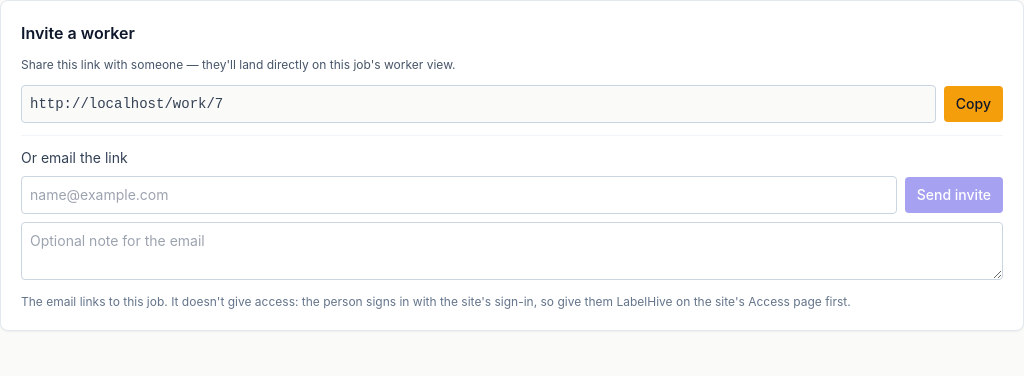
Test: InviteWorkerLink › emails an invite and shows the server error when it fails
The width and height of the screenshot is (1024, 376).
In the field named "Email address": x=459, y=195 [21,176,897,214], type "sam@example.com"
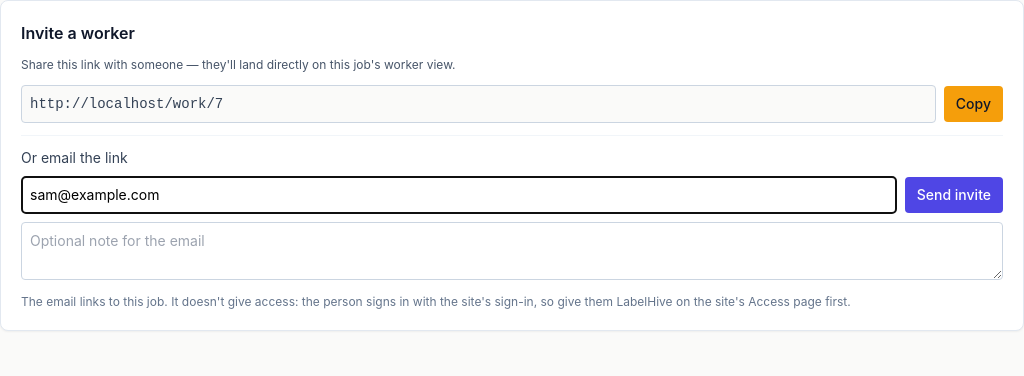
In the text box labelled "note": x=512, y=251 [21,222,1003,280], type "Thanks!"
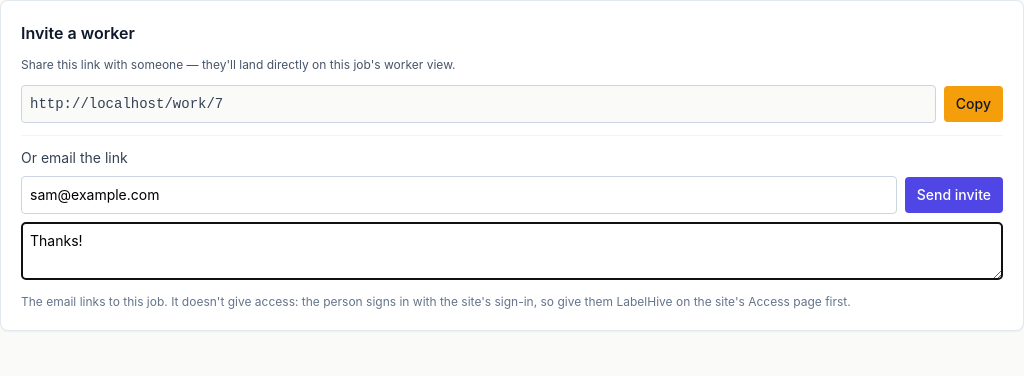
Click the button "Send invite": x=954, y=195 [905,177,1003,213]
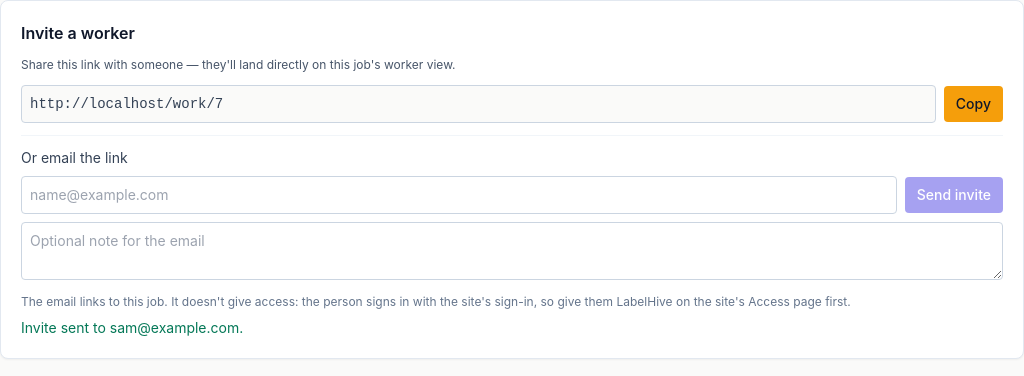
Expected: the message reads "Invite sent to sam@example.com.", [21,319,243,336]
In the field named "Email address": x=459, y=195 [21,176,897,214], type "sam@example.com"
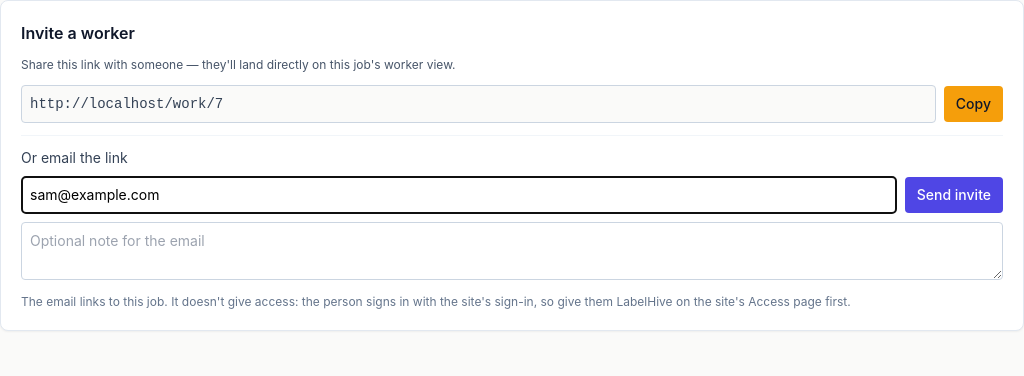
Click the button "Send invite": x=954, y=195 [905,177,1003,213]
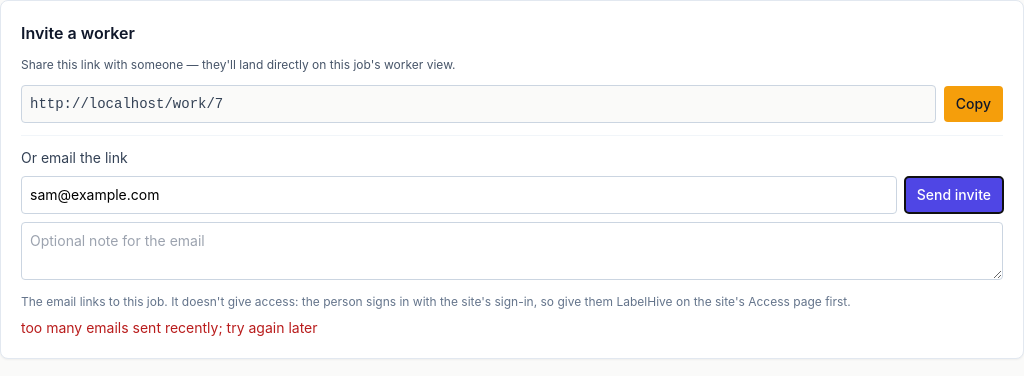
Expected: the message shows "too many emails sent recently", [21,319,318,336]
